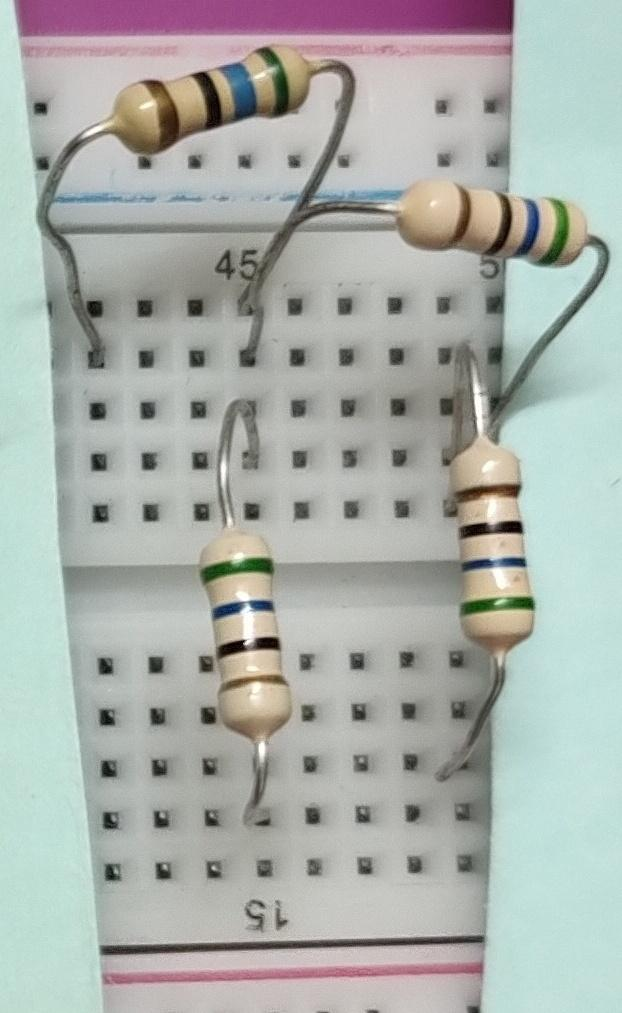resistor: (103, 24, 329, 179), (181, 503, 305, 773), (435, 425, 554, 657), (395, 163, 592, 285)
